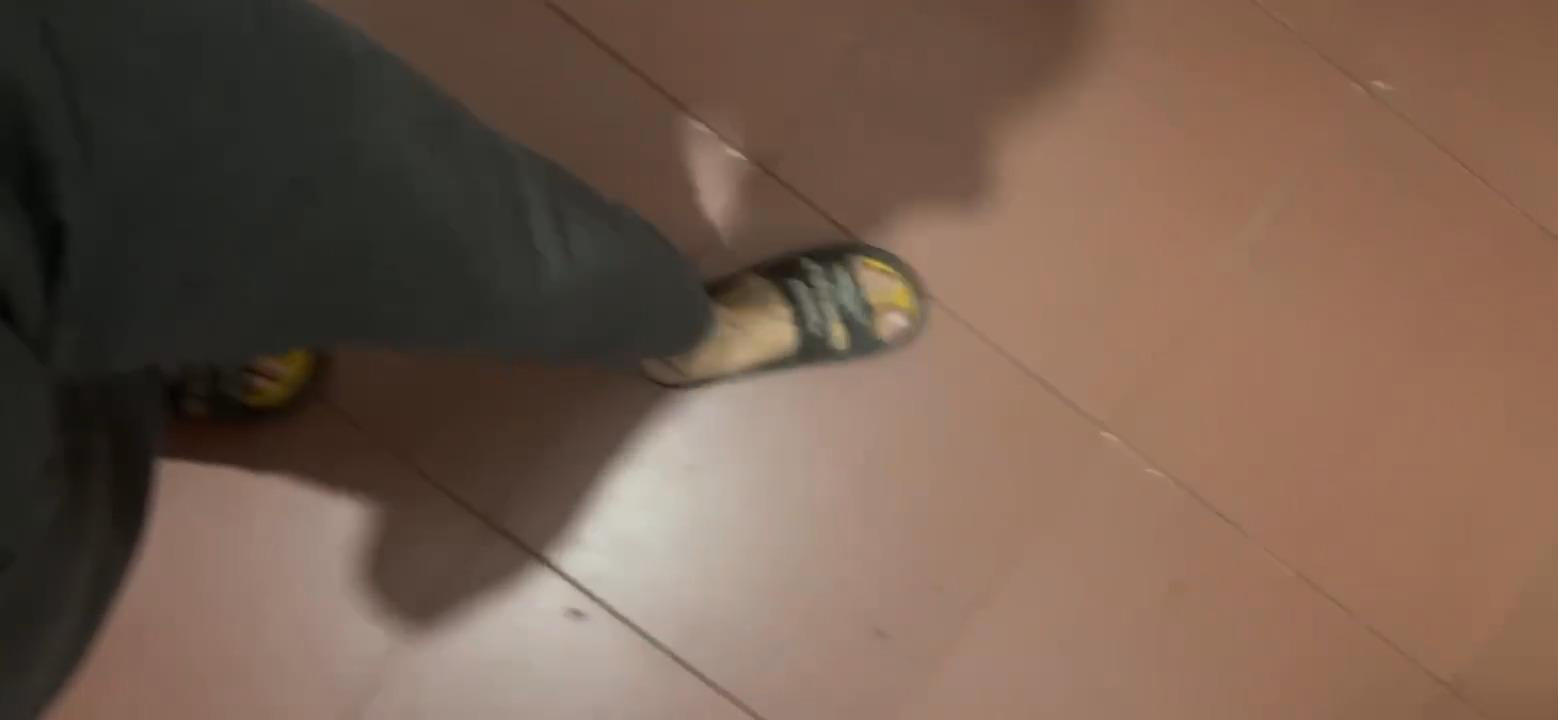no-boot: (649, 235, 942, 374)
